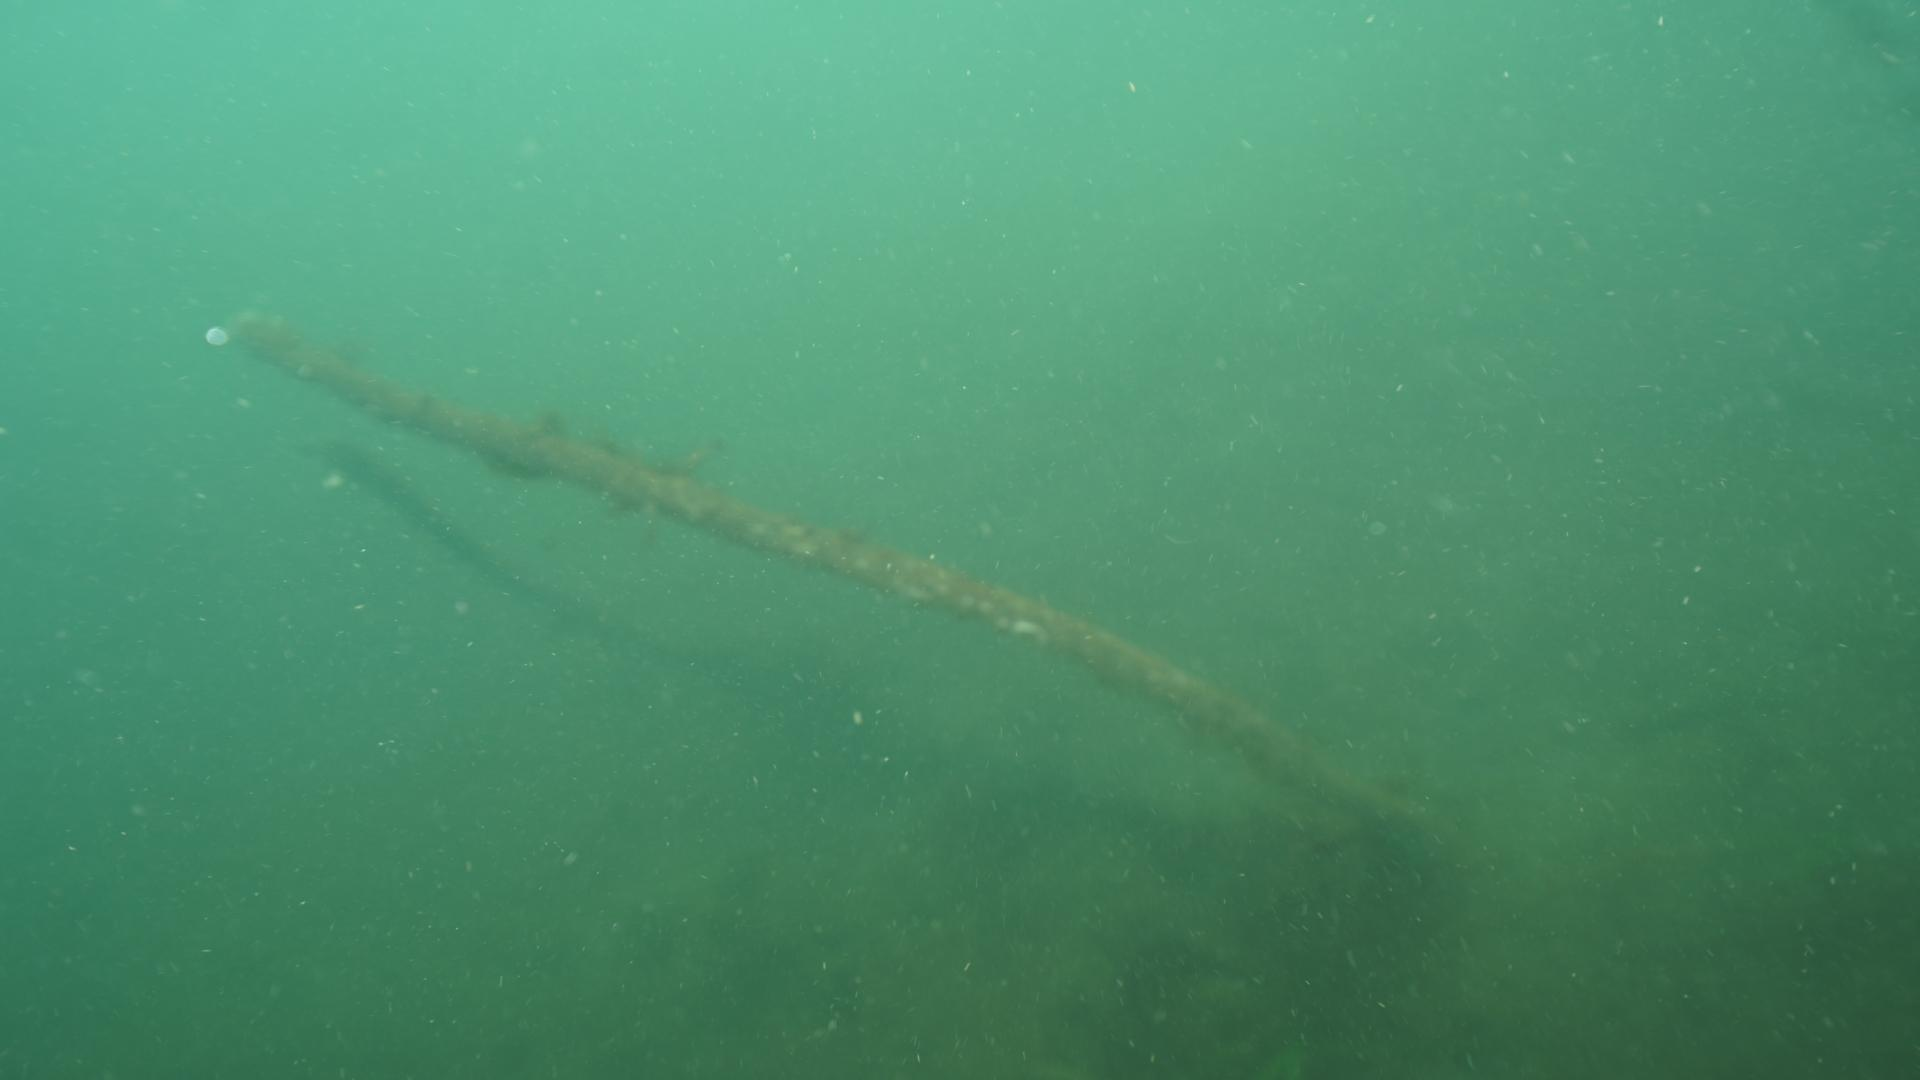wood: (214, 320, 1461, 872)
